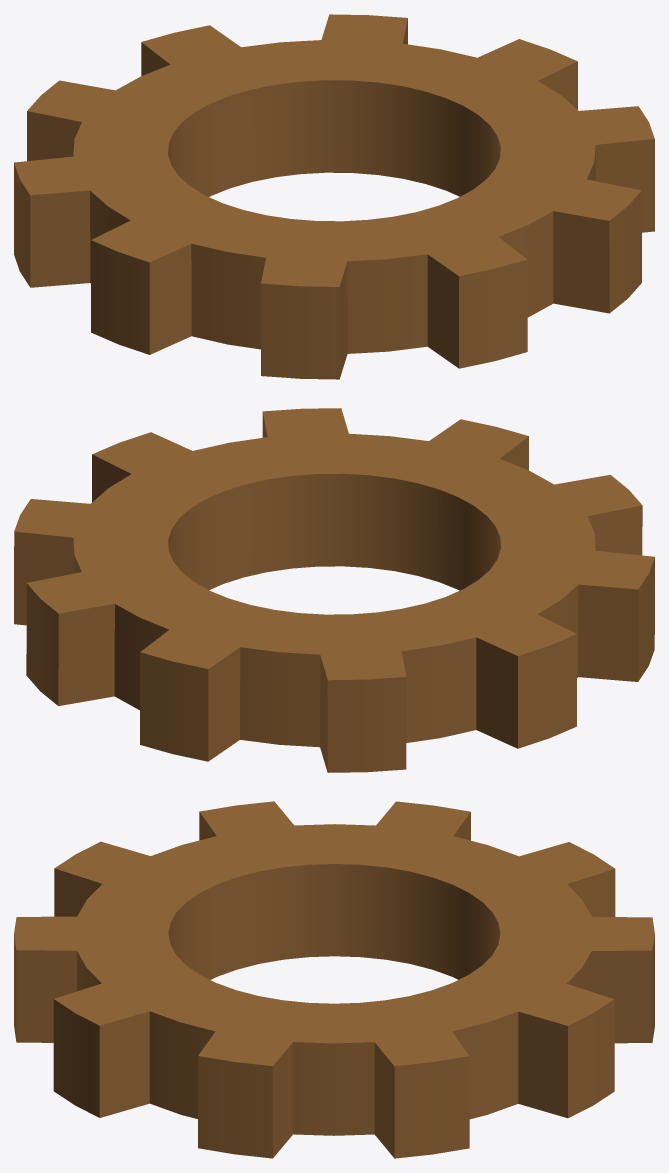
The model's file is Cog.fbx.
The picture shows the model from 3 angles, top to bottom: view 1: azimuth 30°, elevation 25°; view 2: azimuth 150°, elevation 25°; view 3: azimuth 270°, elevation 25°; orthographic projection.
Visible parts, largest first — view 1: Collectible_Gear; view 2: Collectible_Gear; view 3: Collectible_Gear.
Boxes of the visible parts, x1,y1,x2,y2 form: Collectible_Gear: (14, 14, 654, 379); Collectible_Gear: (14, 408, 654, 772); Collectible_Gear: (14, 801, 654, 1158).
Bounding box in the file's own units: 0.3948 × 0.0646 × 0.4018.
